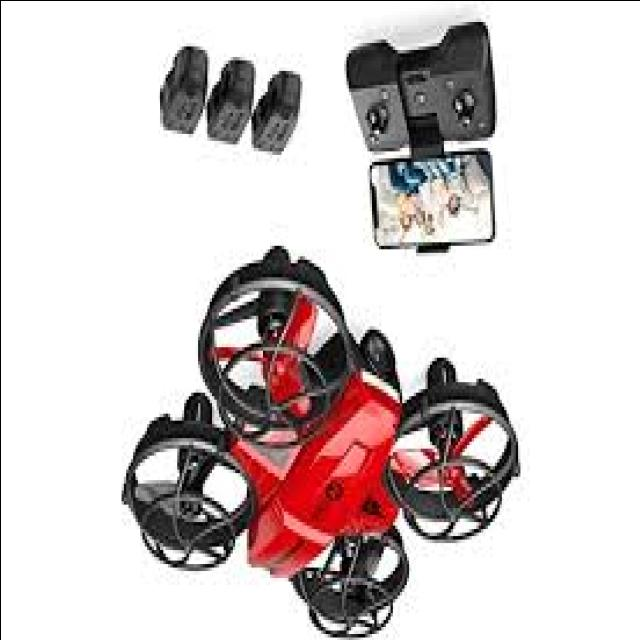drone: (113, 244, 529, 640)
